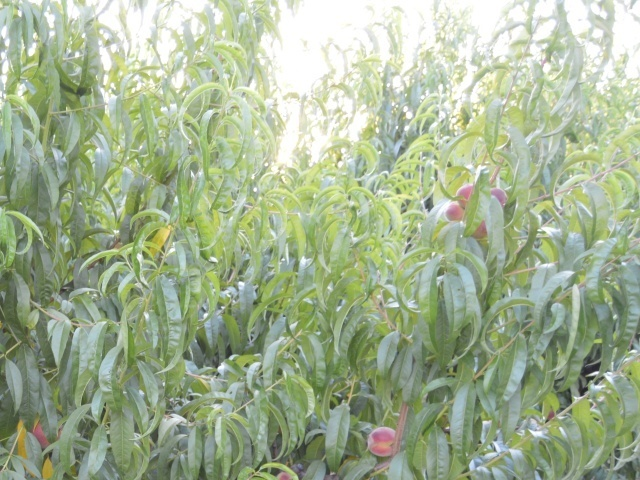peach: (363, 422, 405, 461), (26, 417, 58, 448), (439, 200, 467, 228), (486, 183, 513, 210), (453, 184, 479, 212), (466, 215, 490, 244)
